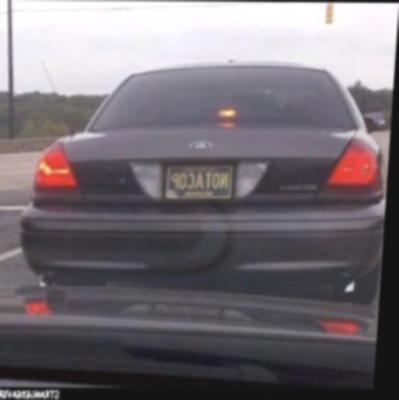License_Plate: (166, 162, 233, 200)
